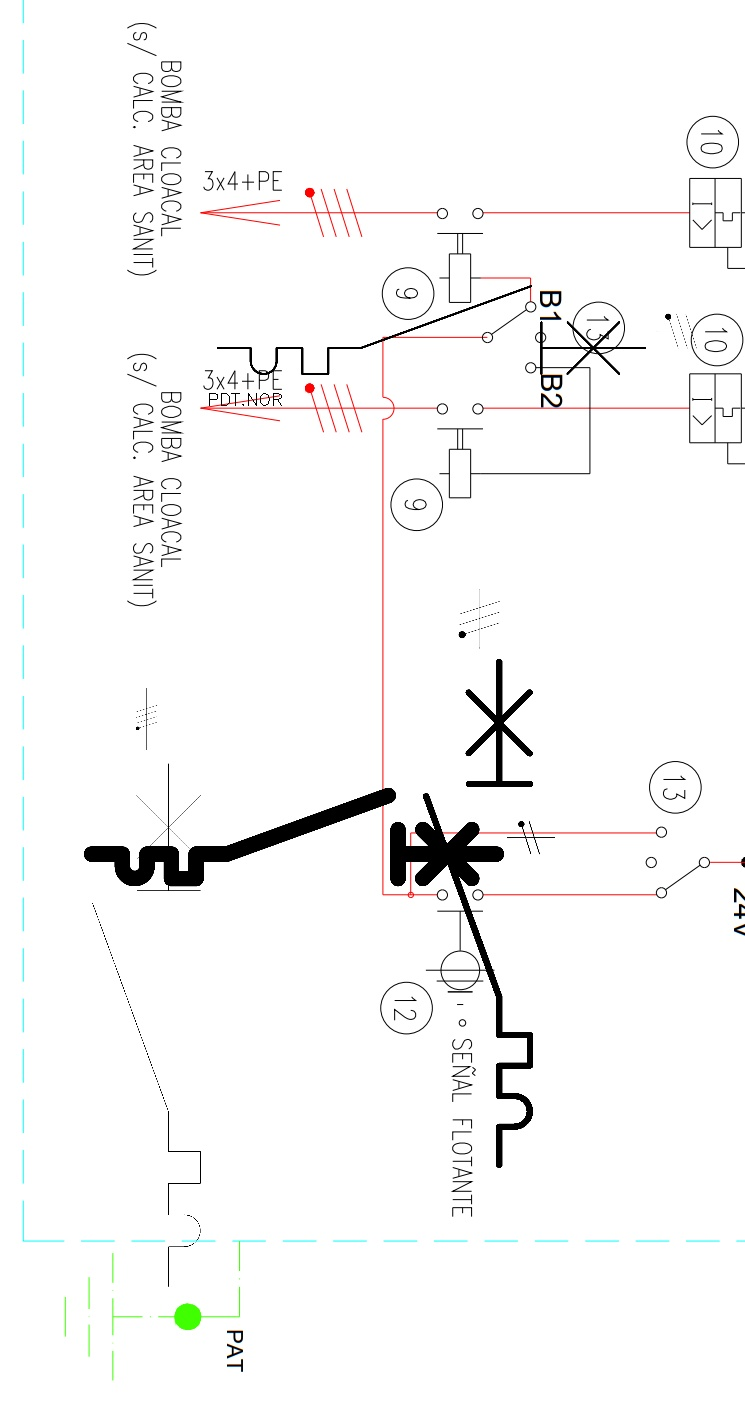interruptor_termomagnetico: (79, 750, 214, 1300), (413, 648, 543, 1177), (207, 275, 656, 385), (81, 785, 507, 889)
